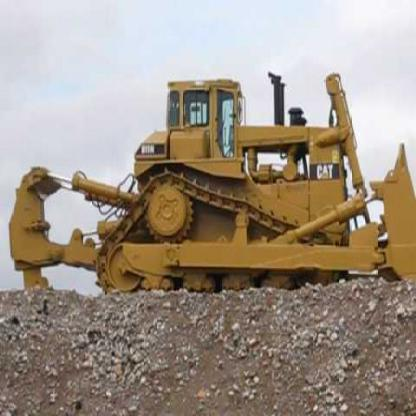bull_dozer/loader/grader: (1, 53, 415, 306)
